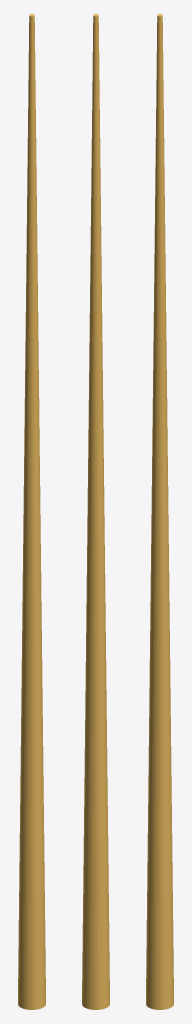
The picture shows the model from 3 angles, left to right: view 1: azimuth 90°, elevation 25°; view 2: azimuth 150°, elevation 25°; view 3: azimuth 270°, elevation 25°; orthographic projection.
Parts seen in each view (by area): view 1: Cylinder; view 2: Cylinder; view 3: Cylinder.
Boxes of the visible parts, x1=… form: Cylinder: x1=18, y1=14, x2=45, y2=1009; Cylinder: x1=82, y1=14, x2=109, y2=1009; Cylinder: x1=146, y1=14, x2=173, y2=1009.
Bounding box in the file's own units: 38.54 × 1488 × 38.54.
